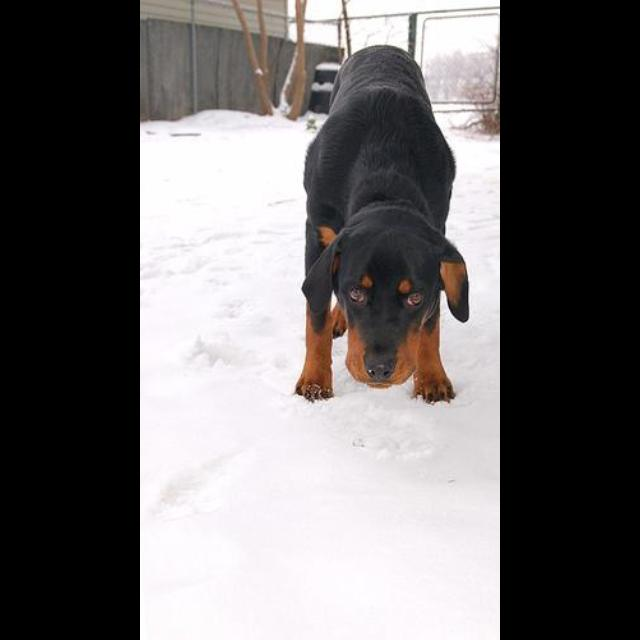rottweiler: (295, 45, 471, 405)
